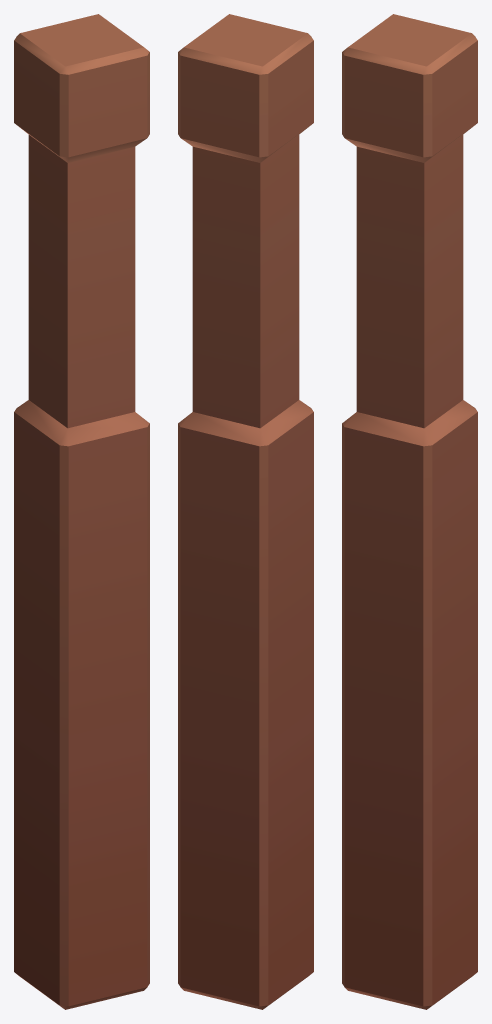
Rendered from post.glb.
3 views of the same model, side by side, from view 1: azimuth 30°, elevation 25°; view 2: azimuth 150°, elevation 25°; view 3: azimuth 330°, elevation 25° (orthographic).
Parts seen in each view (by area): view 1: post; view 2: post; view 3: post.
Boxes of the visible parts, left/top/right/bottom form: post: left=14, top=14, right=149, bottom=1009; post: left=178, top=14, right=313, bottom=1009; post: left=342, top=14, right=477, bottom=1009.
Bounding box in the file's own units: 0.3999 × 4 × 0.3999.
1 material, 1 textured.
